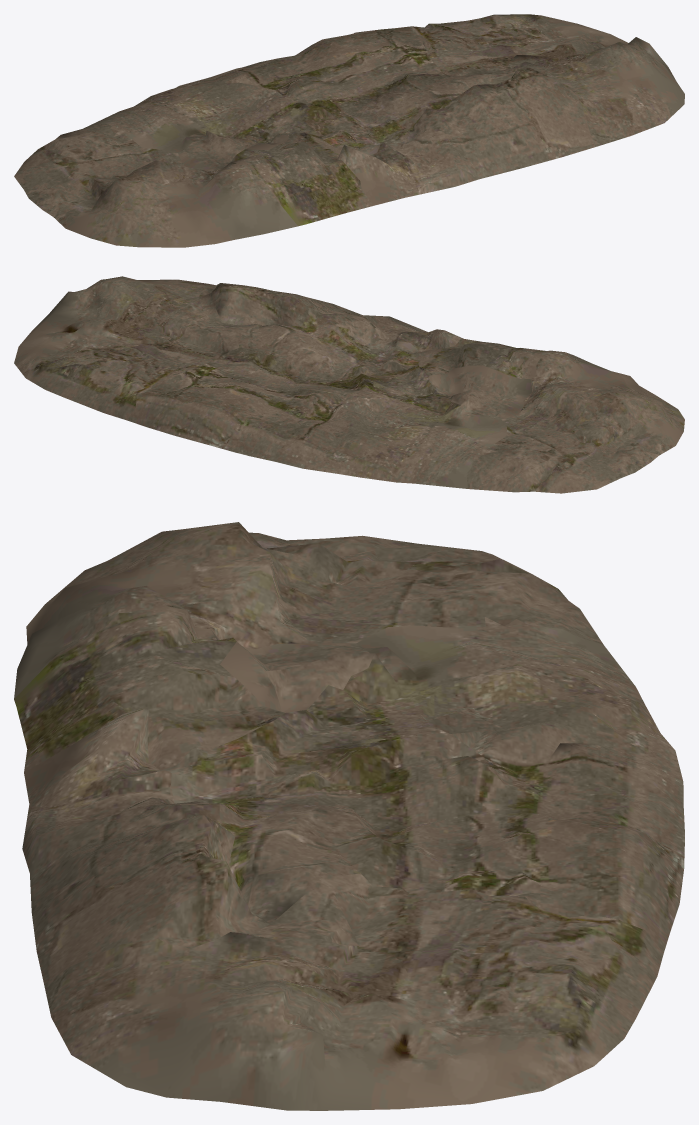
File: Ground_patch_03.fbx
3 renders of one model, top to bottom at view 1: azimuth 30°, elevation 25°; view 2: azimuth 150°, elevation 25°; view 3: azimuth 270°, elevation 25°, orthographic. The views are drawn at different scales.
Parts seen in each view (by area): view 1: Aset_Patches; view 2: Aset_Patches; view 3: Aset_Patches.
Boxes of the visible parts, x1,y1,x2,y2 form: Aset_Patches: [14, 14, 684, 247]; Aset_Patches: [14, 276, 684, 493]; Aset_Patches: [14, 522, 684, 1110].
Size of the model in its own units: 4.28 by 0.3394 by 2.12.
1 material, 1 textured.
